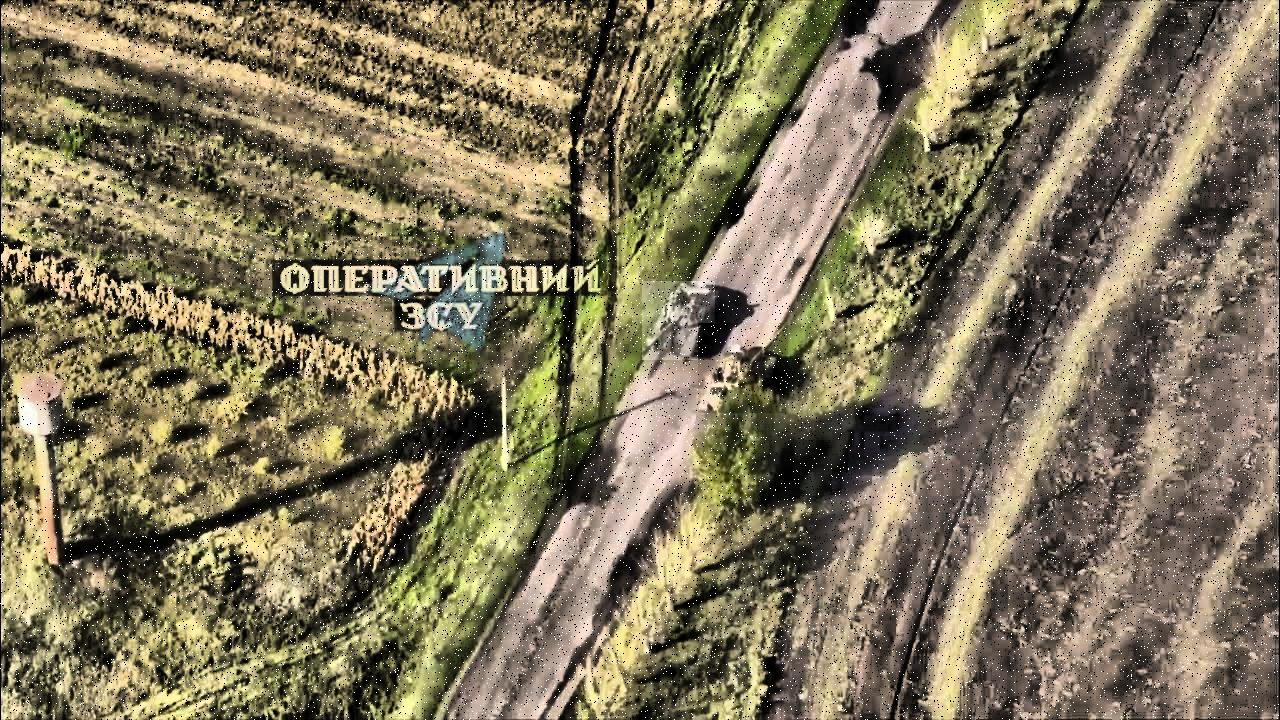military-vehicle: (699, 323, 789, 413), (643, 281, 716, 360)
